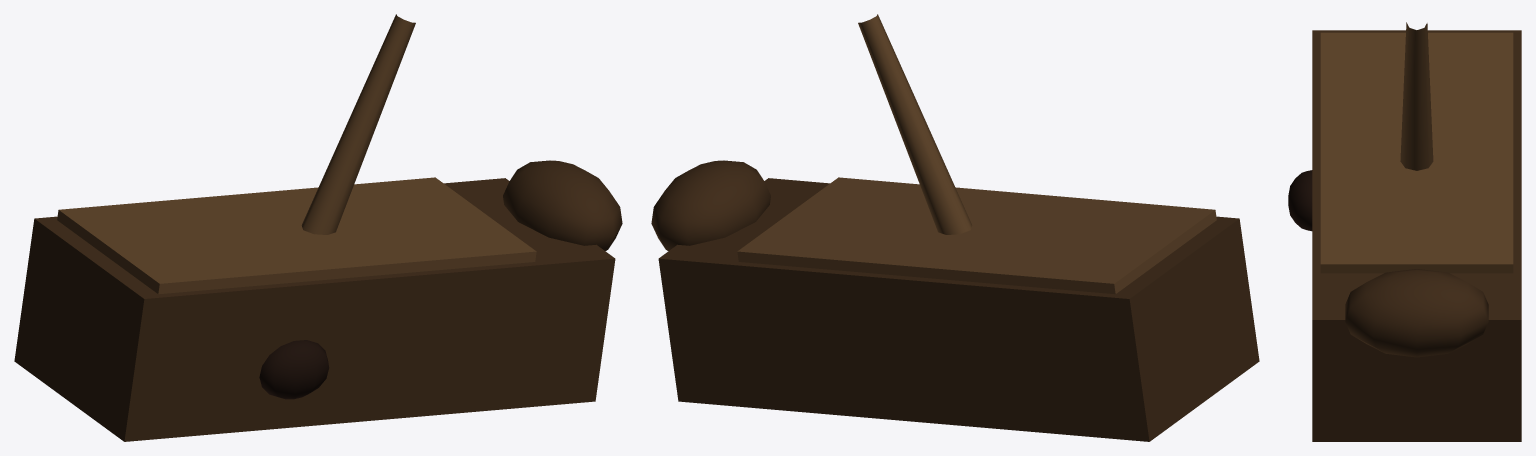
Rendered from pirate_ship.glb.
The picture shows the model from 3 angles, left to right: view 1: azimuth 30°, elevation 25°; view 2: azimuth 150°, elevation 25°; view 3: azimuth 270°, elevation 25°; orthographic projection. The views are drawn at different scales.
Visible parts, largest first — view 1: pirate_ship; view 2: pirate_ship; view 3: pirate_ship.
Boxes of the visible parts, x1,y1,x2,y2 form: pirate_ship: [14, 14, 622, 441]; pirate_ship: [651, 14, 1259, 441]; pirate_ship: [1288, 22, 1521, 441].
Size of the model in its own units: 1.41 by 0.9526 by 0.5571.
